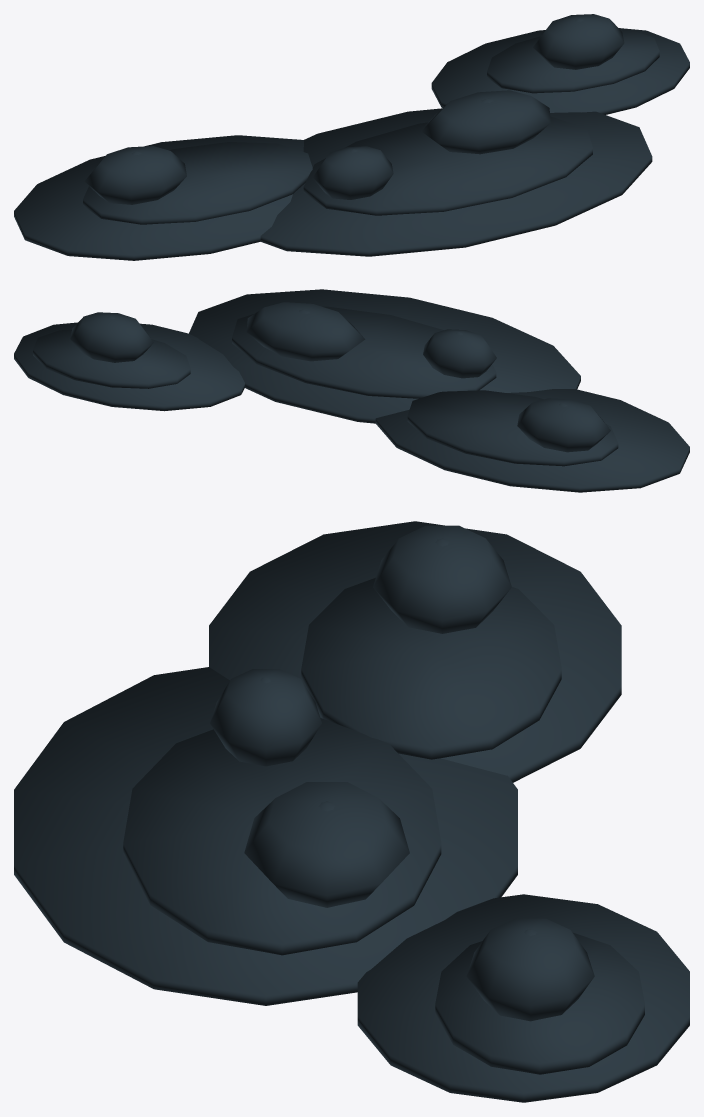
File: methane_seep_a.obj
3 views of the same model, one above another, from view 1: azimuth 30°, elevation 25°; view 2: azimuth 150°, elevation 25°; view 3: azimuth 270°, elevation 25° (orthographic). The views are drawn at different scales.
Parts seen in each view (by area): view 1: methane_seep_a; view 2: methane_seep_a; view 3: methane_seep_a.
Boxes of the visible parts, x1,y1,x2,y2 form: methane_seep_a: [14, 14, 689, 260]; methane_seep_a: [14, 289, 689, 492]; methane_seep_a: [14, 521, 689, 1102].
Size of the model in its own units: 9.97 by 0.78 by 4.98.
